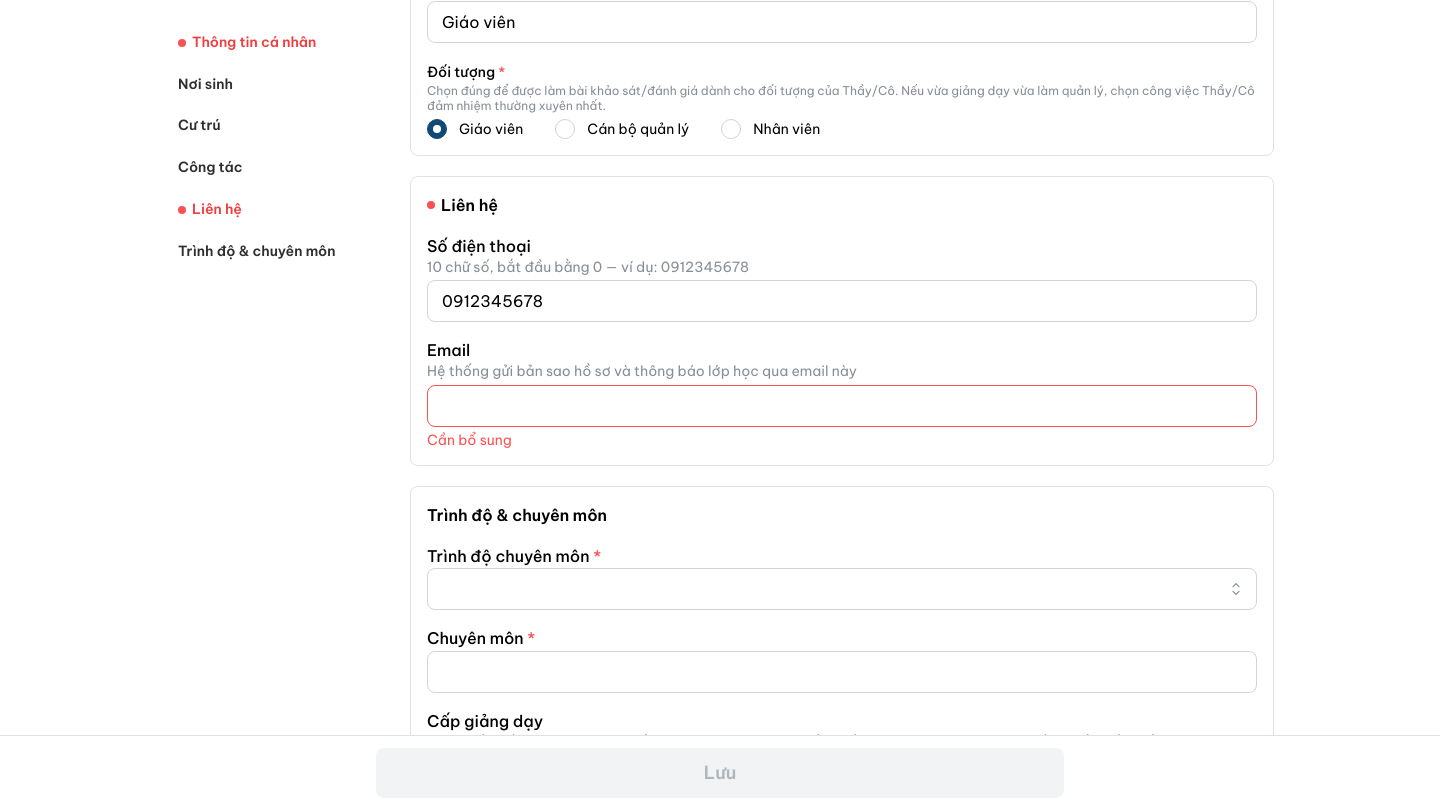
Test: M4 — Hồ sơ: xem & sửa › email domain có khả năng gõ nhầm (gmai.com) → hiện cảnh báo gợi ý, bấm nút để đổi đúng domain
(page scrolled)
In the field labelled "Email": (842, 406) [427,385,1257,427], type "abc@gmai.com"
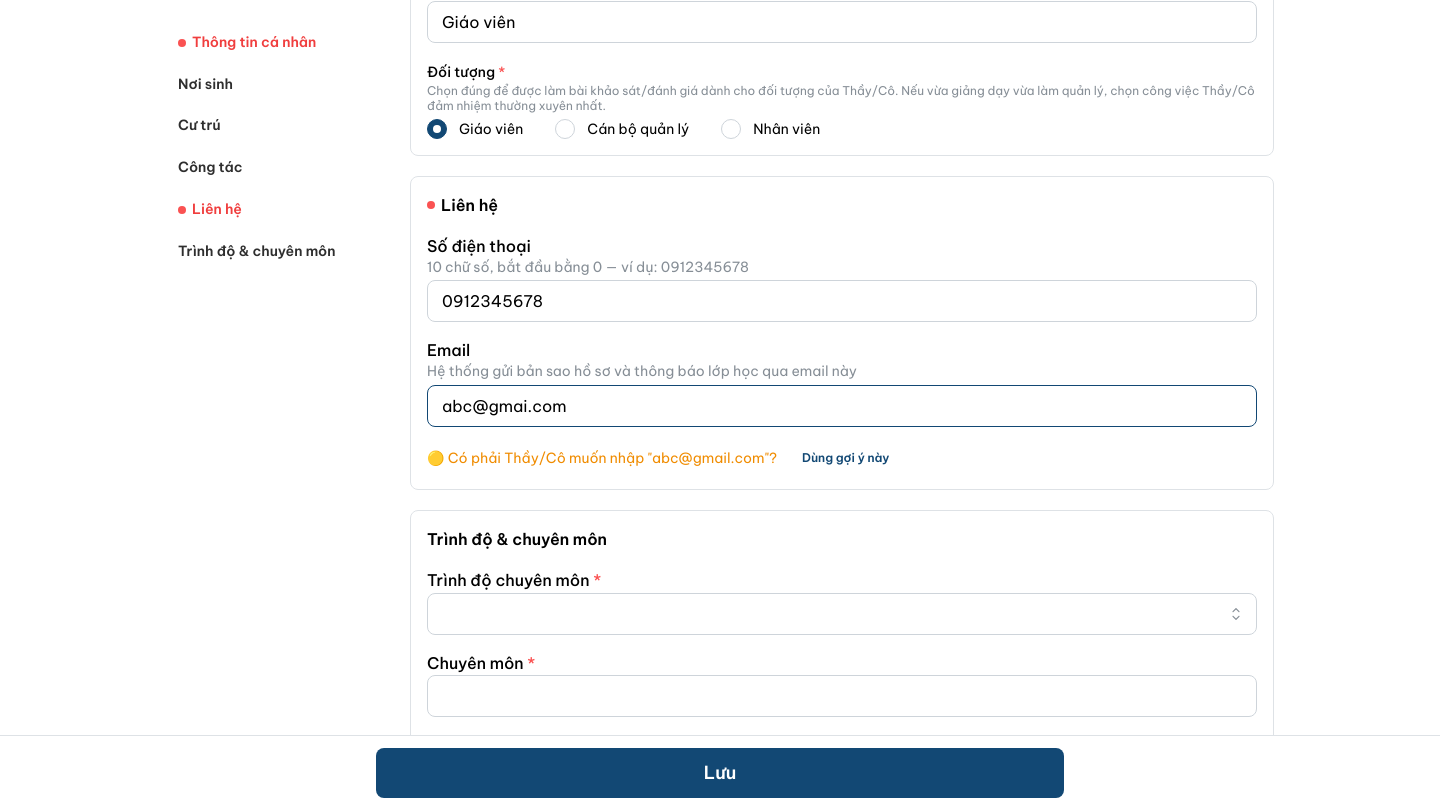
Check: the text "🟡 Có phải Thầy/Cô muốn nhập \"abc@gmail.com\"?" is shown, box [427,448,777,468]
Click the button "Dùng gợi ý này": (846, 458) [787,443,904,473]
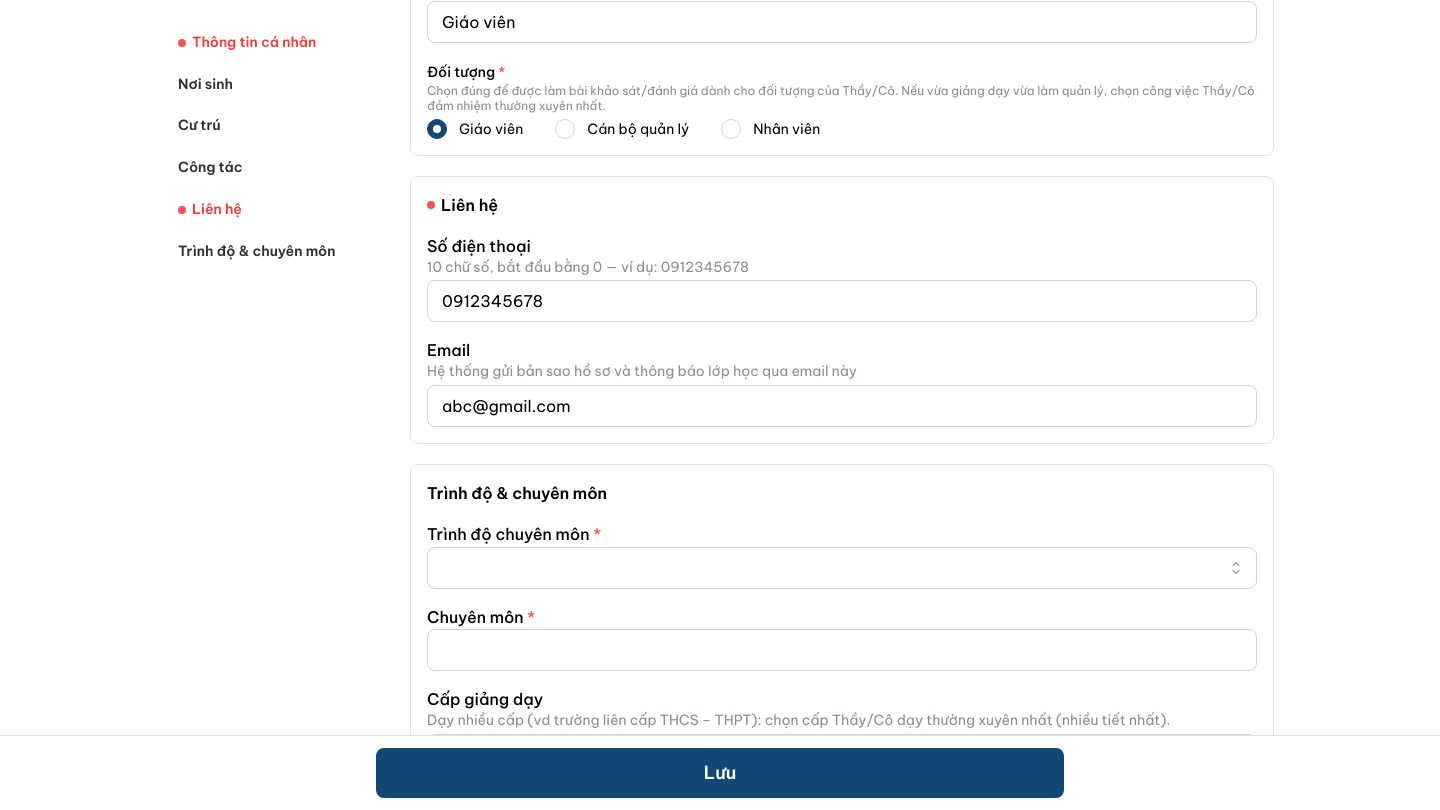
Check: the field labelled "Email" holds "abc@gmail.com", box [427,385,1257,427]
